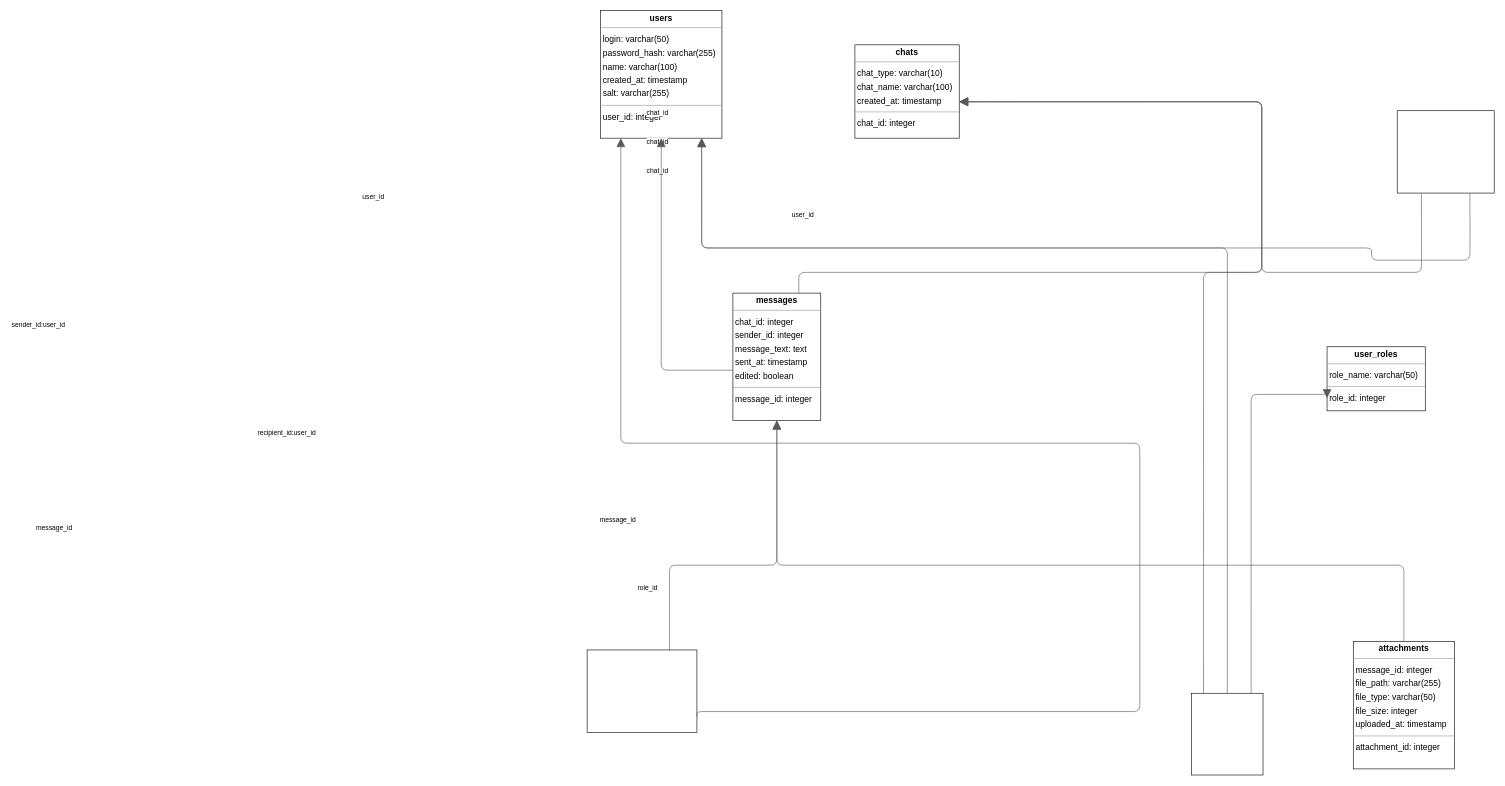
The diagram is 1505 pixels wide and 786 high, and some of its shapes have lost their labels. Each missing label, with the centre of its shape:
"chat_participants joined_at: timestamp chat_id: integer user_id: integer" belongs at point (1445, 151).
"chat_roles chat_id: integer user_id: integer role_id: integer" belongs at point (1227, 734).
"message_recipients status: varchar(20) message_id: integer recipient_id: integer" belongs at point (642, 690).
